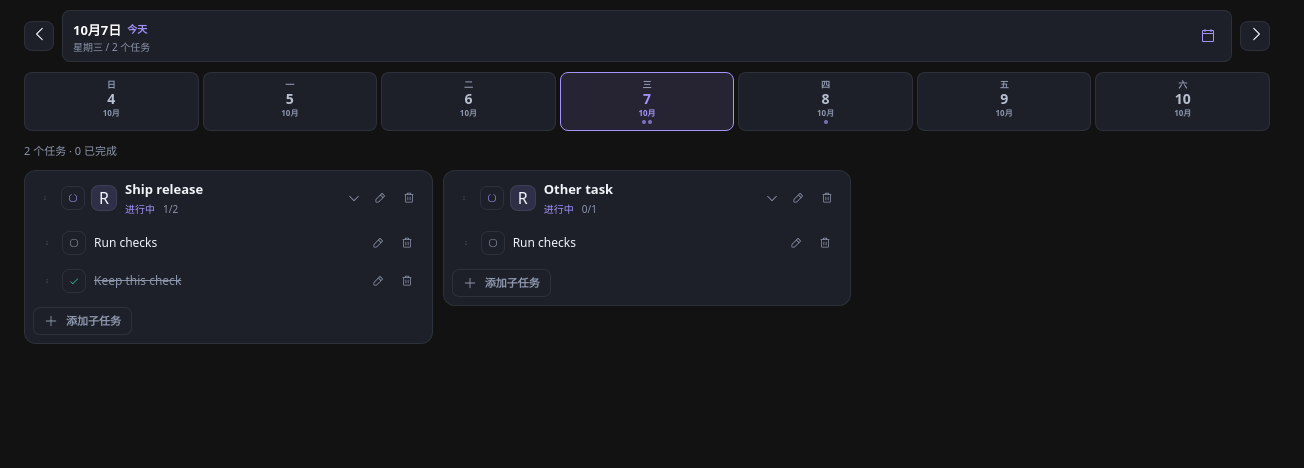
TaskSection › deletes and persists only the chosen subtask and updates progress
Expected: the text "1/2" is shown, [163,202,178,216]
Click the 1st button with test id "delete-subtask-subtask-test" at point(407, 242), box [394,230,420,256]
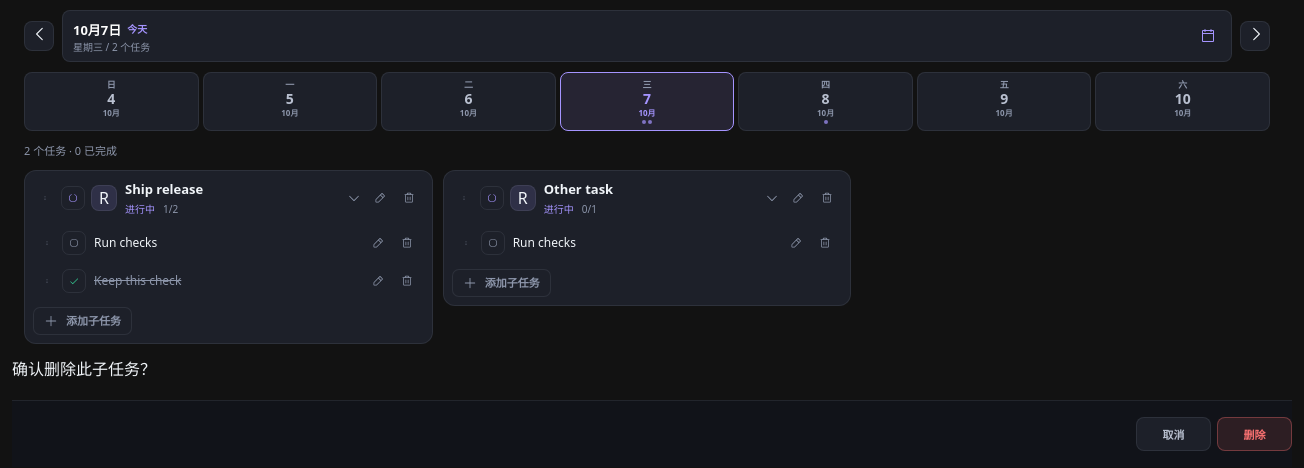
Click the button with test id "confirm-submit" at point(1254, 434), box [1217,416,1292,450]
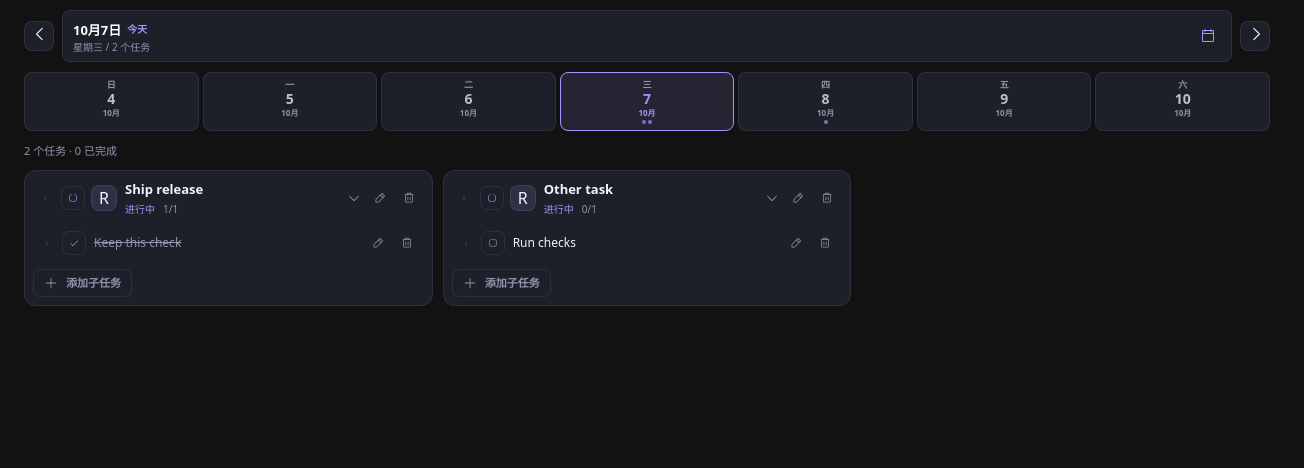
Now the text "1/1" is shown, box [163,202,178,216]
